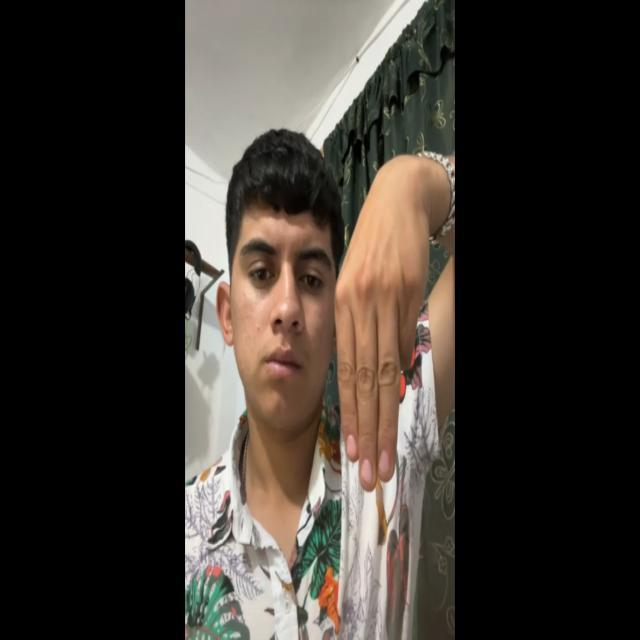M: (332, 133, 439, 504)
